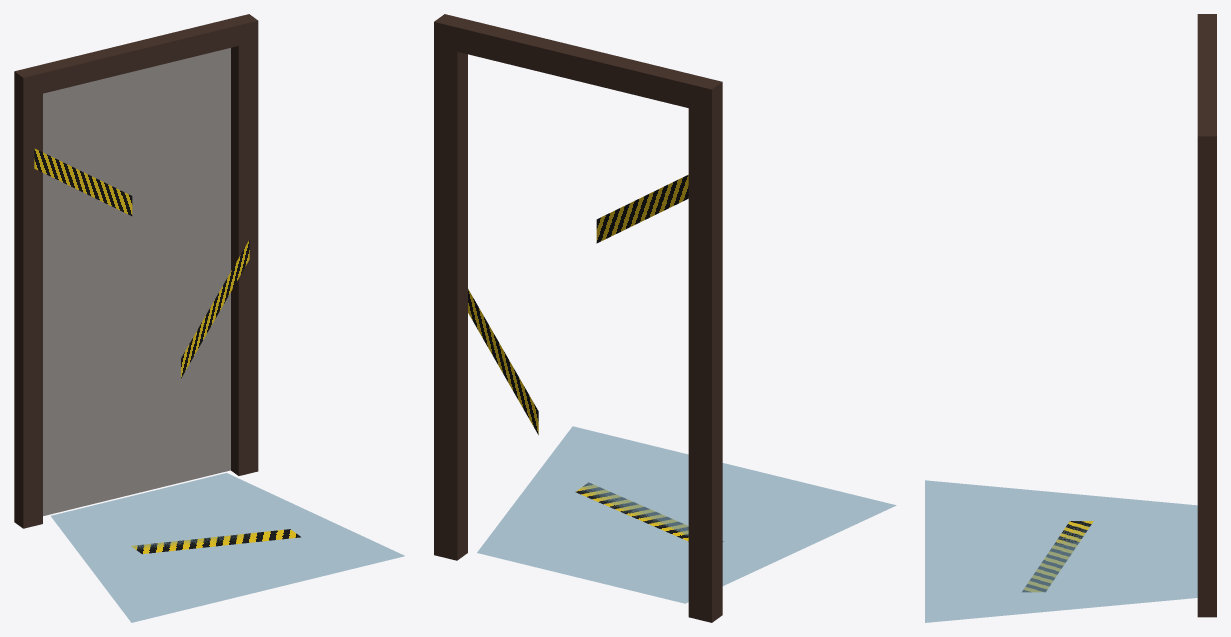
Rendered from porta_zebrada_hall.glb.
3 views of the same model, side by side, from view 1: azimuth 30°, elevation 25°; view 2: azimuth 150°, elevation 25°; view 3: azimuth 270°, elevation 25° (orthographic). The views are drawn at different scales.
Visible parts, largest first — view 1: EscadaQueDesce_0, Porta_1; view 2: Porta_1; view 3: Porta_1.
Part boxes in pixels (x1,y1,x2,y2): EscadaQueDesce_0: [43, 48, 230, 515]; Porta_1: [14, 14, 404, 622]; Porta_1: [434, 14, 896, 622]; Porta_1: [925, 14, 1216, 622].
Bounding box in the file's own units: 1.4 × 2.2 × 1.21.
Materials: 4 (1 with a texture image).
